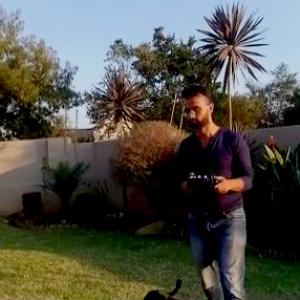follow: (175, 77, 258, 299)
